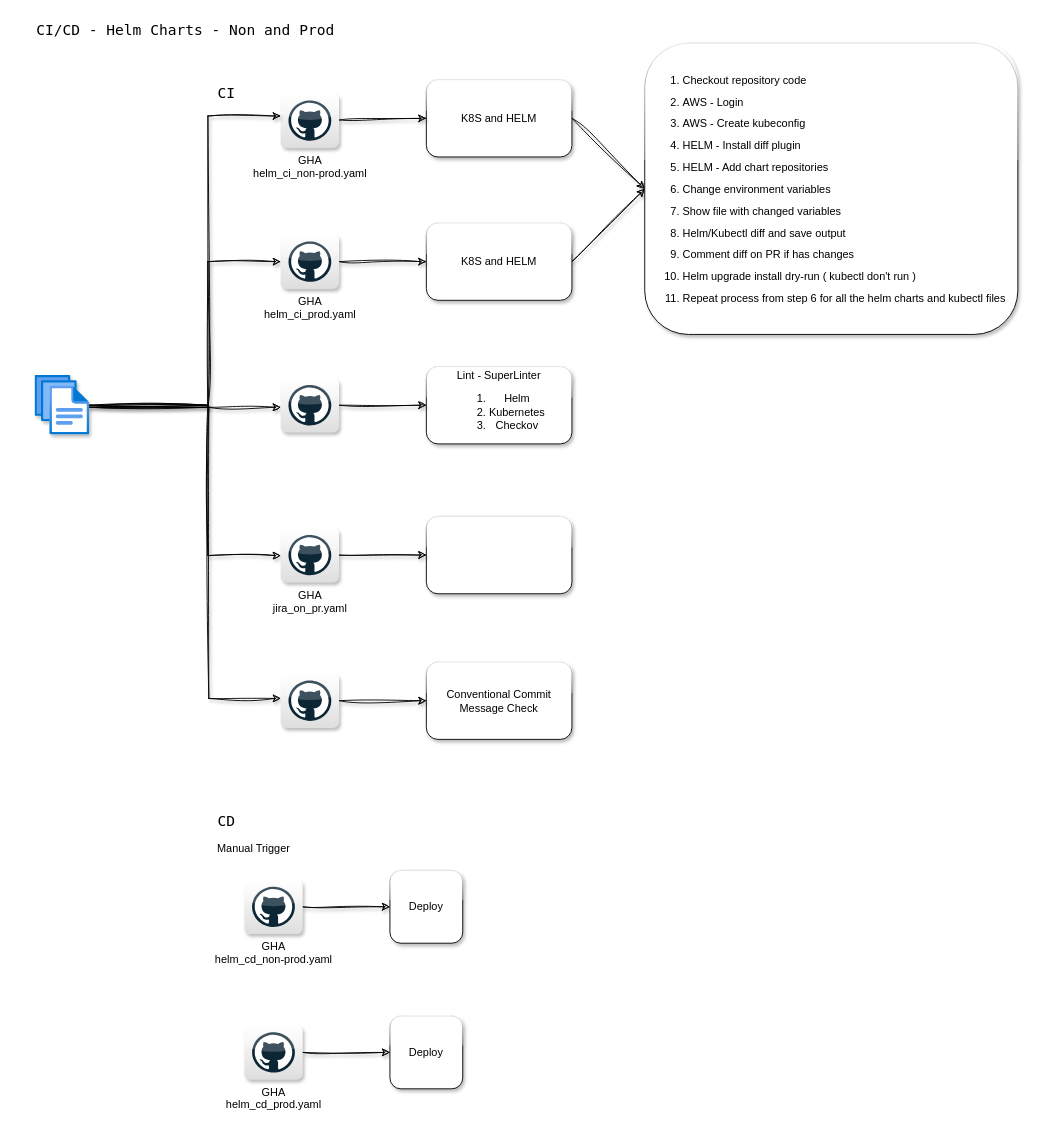
Image size: 1039x1127. Some labels were removed from this diagram. Each missing label, with the centre of its shape:
GHA commit-check.yaml: pixel 310 701
GHA helm_ci_lint.yaml: pixel 310 406
Jira Ticket on Pull Request: pixel 499 556
Pull Request branch: main paths: helm-common: pixel 63 406
